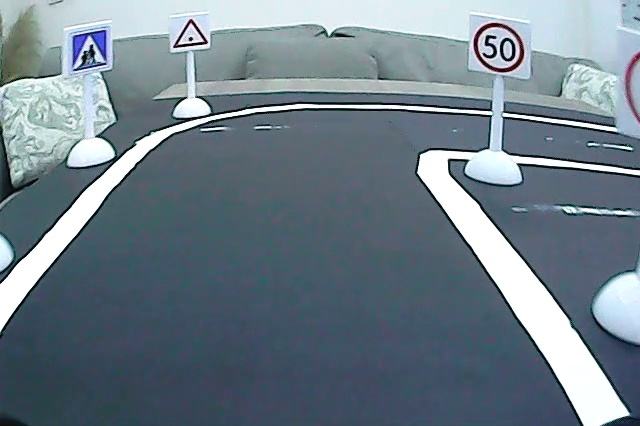green light: (170, 16, 210, 51)
school crossing: (67, 27, 109, 71)
speed limit 50: (469, 18, 529, 74)
